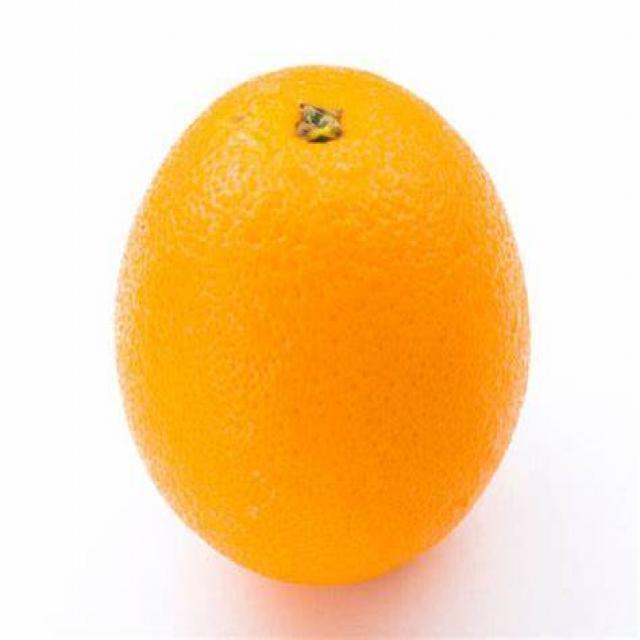Orange: (109, 60, 536, 588)
